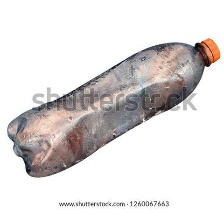bottle: (4, 33, 224, 186)
